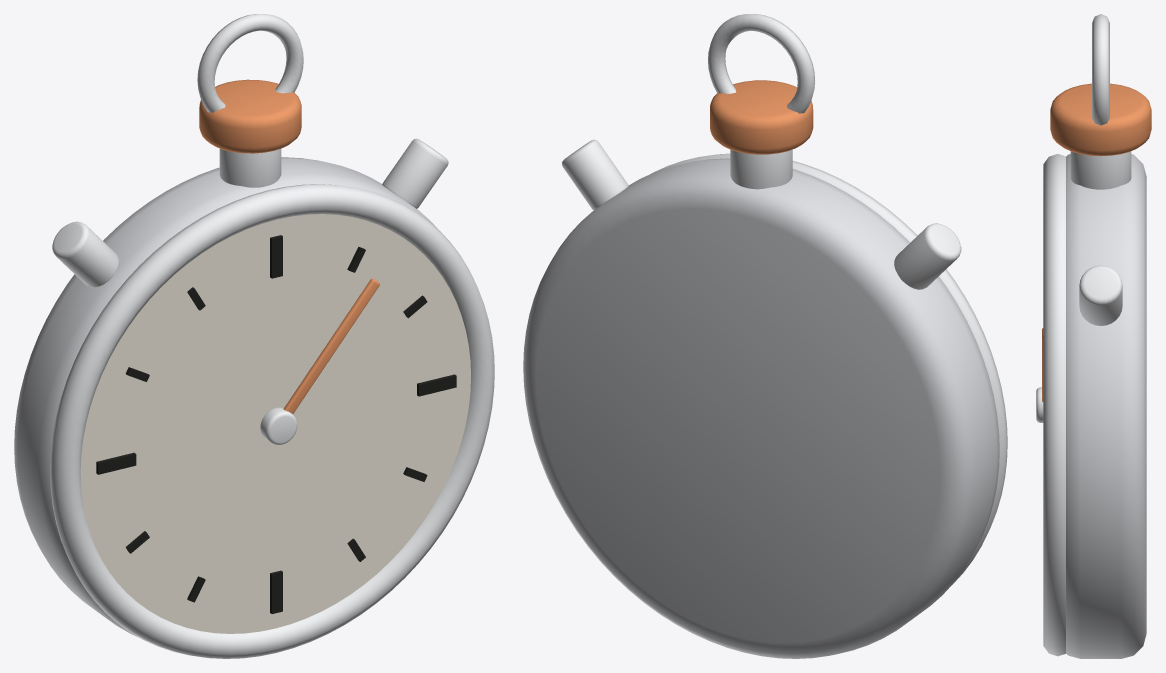
File: life-stopwatch.glb
The picture shows the model from 3 angles, left to right: view 1: azimuth 30°, elevation 25°; view 2: azimuth 150°, elevation 25°; view 3: azimuth 270°, elevation 25°; orthographic projection. The views are drawn at different scales.
Parts seen in each view (by area): view 1: Face, Bezel, Case.001, Crown, Loop, Pusher, Pusher.001, Neck, Hand, Pin; view 2: Case.001, Crown, Bezel, Loop, Pusher, Pusher.001, Neck; view 3: Case.001, Bezel, Crown, Pusher.001, Neck, Loop, Pin.
Boxes of the visible parts, x1,y1,x2,y2 form: Face: [80, 214, 470, 633]; Bezel: [50, 184, 494, 658]; Case.001: [14, 157, 437, 637]; Crown: [199, 79, 301, 153]; Loop: [197, 14, 303, 112]; Pusher: [52, 221, 118, 287]; Pusher.001: [382, 138, 448, 208]; Neck: [219, 148, 281, 187]; Hand: [283, 278, 379, 413]; Pin: [260, 407, 297, 444]; Case.001: [523, 158, 999, 658]; Crown: [710, 80, 813, 154]; Bezel: [651, 153, 1007, 583]; Loop: [708, 14, 814, 113]; Pusher: [894, 223, 961, 289]; Pusher.001: [562, 139, 628, 210]; Neck: [730, 149, 792, 189]; Case.001: [1066, 154, 1146, 658]; Bezel: [1043, 154, 1065, 656]; Crown: [1050, 83, 1151, 155]; Pusher.001: [1079, 265, 1122, 325]; Neck: [1070, 151, 1131, 189]; Loop: [1092, 14, 1109, 125]; Pin: [1036, 387, 1043, 422].
Bounding box in the file's own units: 2 × 2.68 × 0.455.
